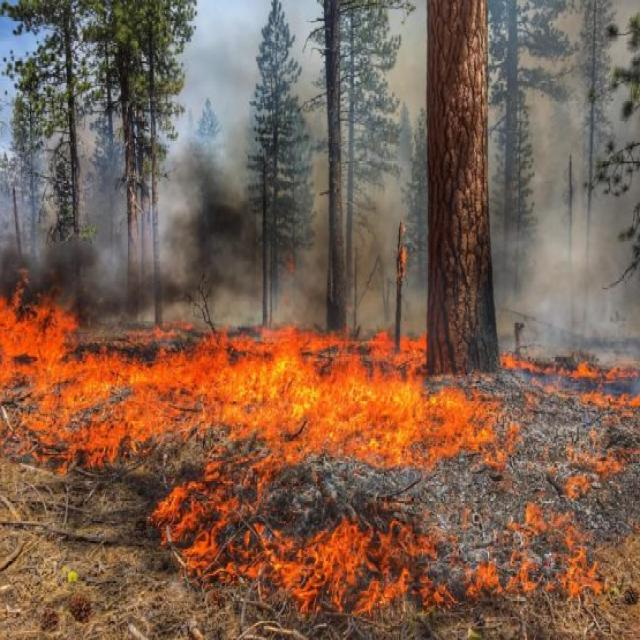fire: (14, 300, 640, 608)
